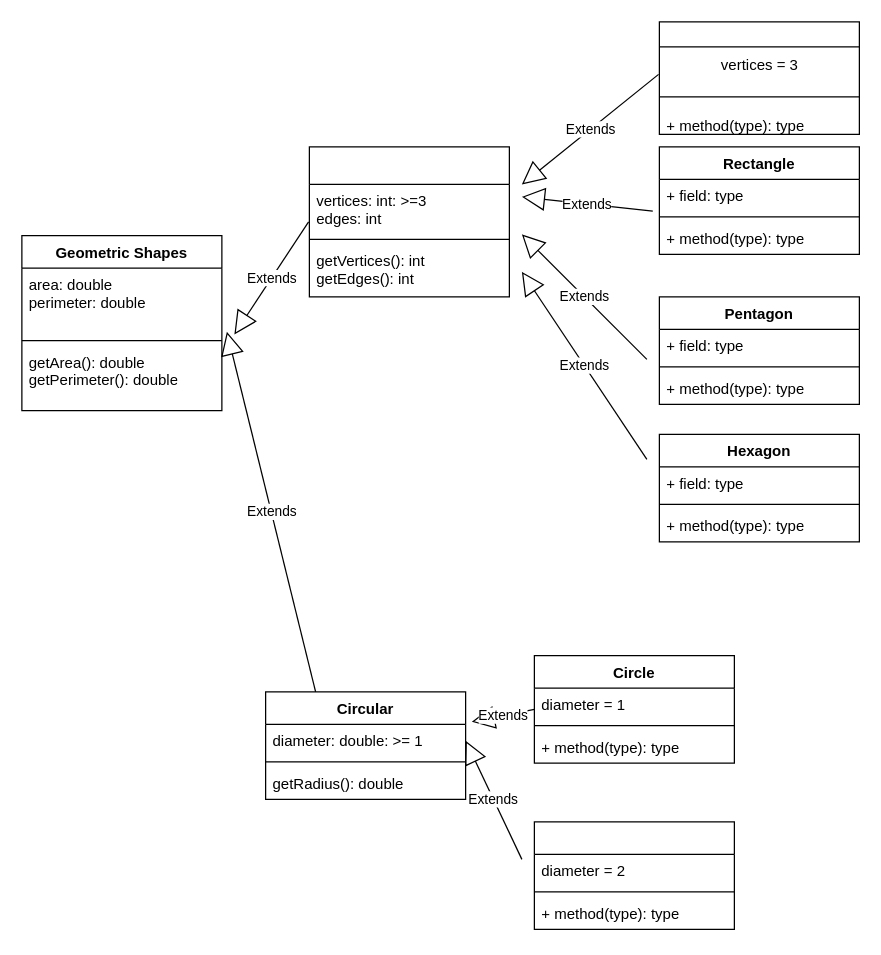
This 881x955 diagram has some shape labels left out. Each missing label, with the box of its shape:
Ellipses: (533, 821, 734, 929)
Polygons: (308, 146, 509, 297)
Triangle: (658, 21, 859, 134)
